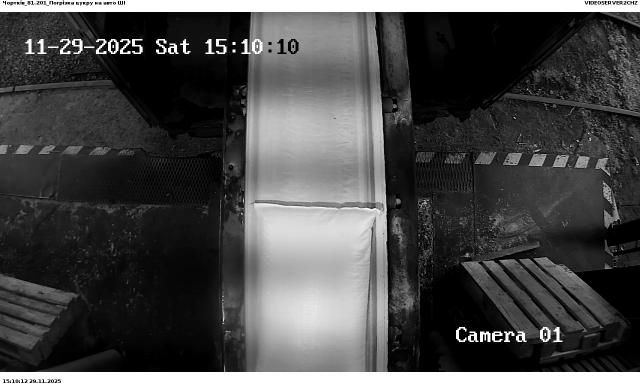bag: (254, 203, 382, 372)
